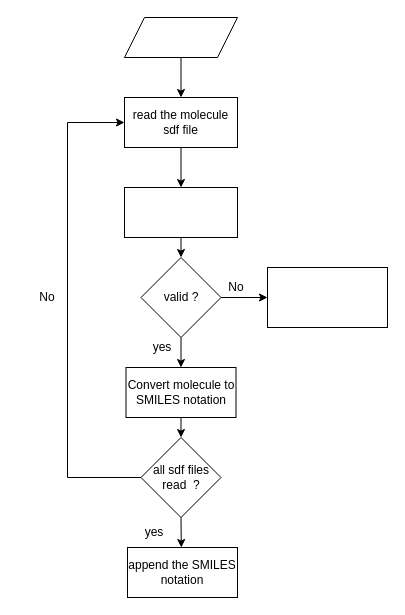
This 405x615 diagram has some shape labels left out. Here are the shapes that lost their labels. From the top down, the box of each, then its label:
(124, 16, 238, 58): sdf file
(124, 186, 238, 238): validate the molecule
(266, 266, 388, 328): exclude the molecule
